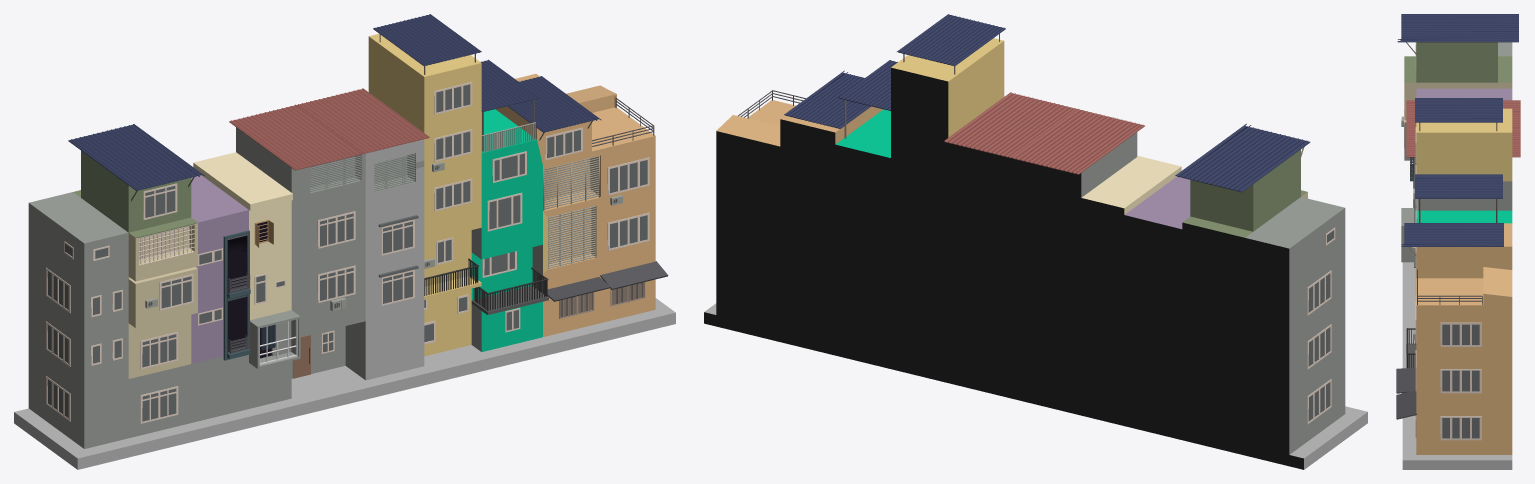
Rendered from TubeHouse (3).fbx.
3 views of the same model, side by side, from view 1: azimuth 30°, elevation 25°; view 2: azimuth 150°, elevation 25°; view 3: azimuth 270°, elevation 25° (orthographic). The views are drawn at different scales.
Parts seen in each view (by area): view 1: tubeHouse.001, Cube.032, Cube.070, Cube.020, Cylinder.014, Cylinder.010; view 2: tubeHouse.001, Cube.032, Cube.070, Cube.020; view 3: tubeHouse.001, Cube.032, Cube.070, Cube.020, Cylinder.014, Cylinder.010.
Part boxes in pixels (x1,y1,x2,y2): tubeHouse.001: (14, 33, 675, 469); Cube.032: (68, 14, 601, 201); Cube.070: (47, 84, 647, 421); Cube.020: (46, 82, 649, 423); Cylinder.014: (227, 98, 668, 354); Cylinder.010: (424, 258, 548, 311); tubeHouse.001: (704, 38, 1367, 469); Cube.032: (784, 14, 1310, 192); Cube.070: (1308, 230, 1333, 421); Cube.020: (1307, 227, 1335, 424); tubeHouse.001: (1401, 42, 1512, 469); Cube.032: (1397, 14, 1520, 256); Cube.070: (1442, 324, 1479, 438); Cube.020: (1404, 42, 1481, 440); Cylinder.014: (1396, 157, 1482, 437); Cylinder.010: (1406, 328, 1415, 367).
Bounding box in the file's own units: 1618 × 810 × 338.
Materials: 8 (8 with a texture image).
